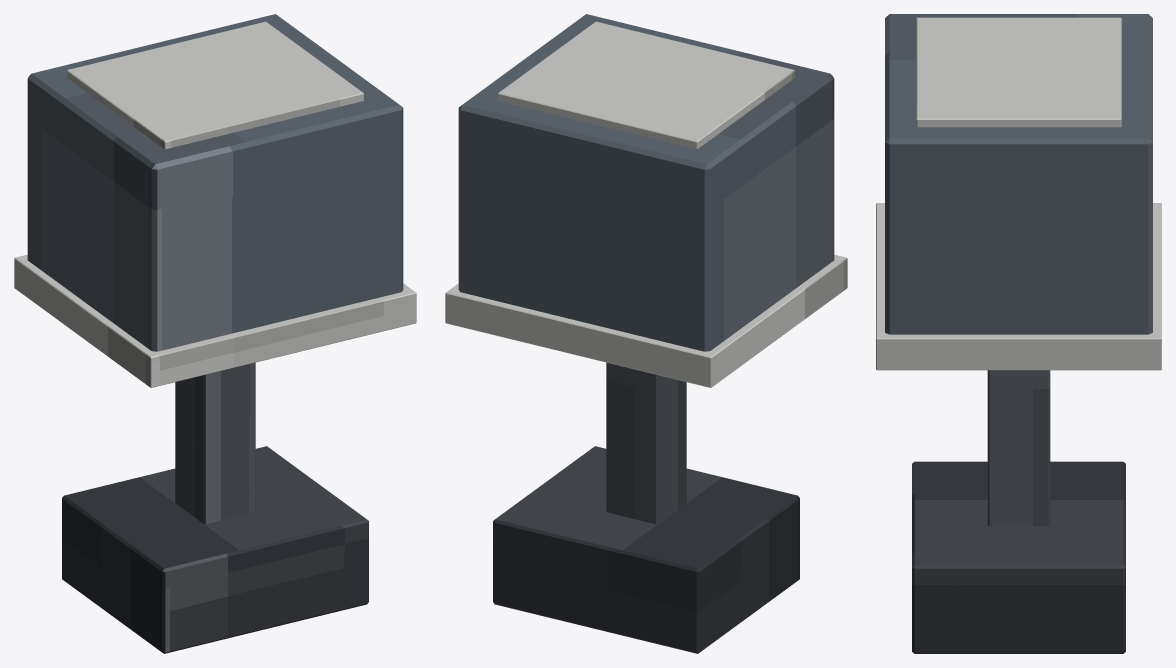
Rendered from bedside_lamp_charcoal.glb.
The picture shows the model from 3 angles, left to right: view 1: azimuth 30°, elevation 25°; view 2: azimuth 150°, elevation 25°; view 3: azimuth 270°, elevation 25°; orthographic projection. The views are drawn at different scales.
Parts seen in each view (by area): view 1: LampShade, LampBase, ShadeBandTop, ShadeBandBottom, LampStem; view 2: LampShade, LampBase, ShadeBandTop, ShadeBandBottom, LampStem; view 3: LampShade, LampBase, ShadeBandTop, ShadeBandBottom, LampStem.
Boxes of the visible parts, x1,y1,x2,y2 form: LampShade: (27,14,403,351); LampBase: (62,446,368,653); ShadeBandTop: (67,21,363,149); ShadeBandBottom: (14,254,416,387); LampStem: (175,362,255,524); LampShade: (458,14,834,351); LampBase: (493,446,799,653); ShadeBandTop: (498,21,794,149); ShadeBandBottom: (445,254,847,387); LampStem: (606,362,686,524); LampShade: (885,14,1152,334); LampBase: (912,461,1125,653); ShadeBandTop: (916,17,1121,127); ShadeBandBottom: (876,203,1161,370); LampStem: (987,370,1050,526).
Bounding box in the file's own units: 0.36 × 0.66 × 0.32.
1 material, 1 textured.
